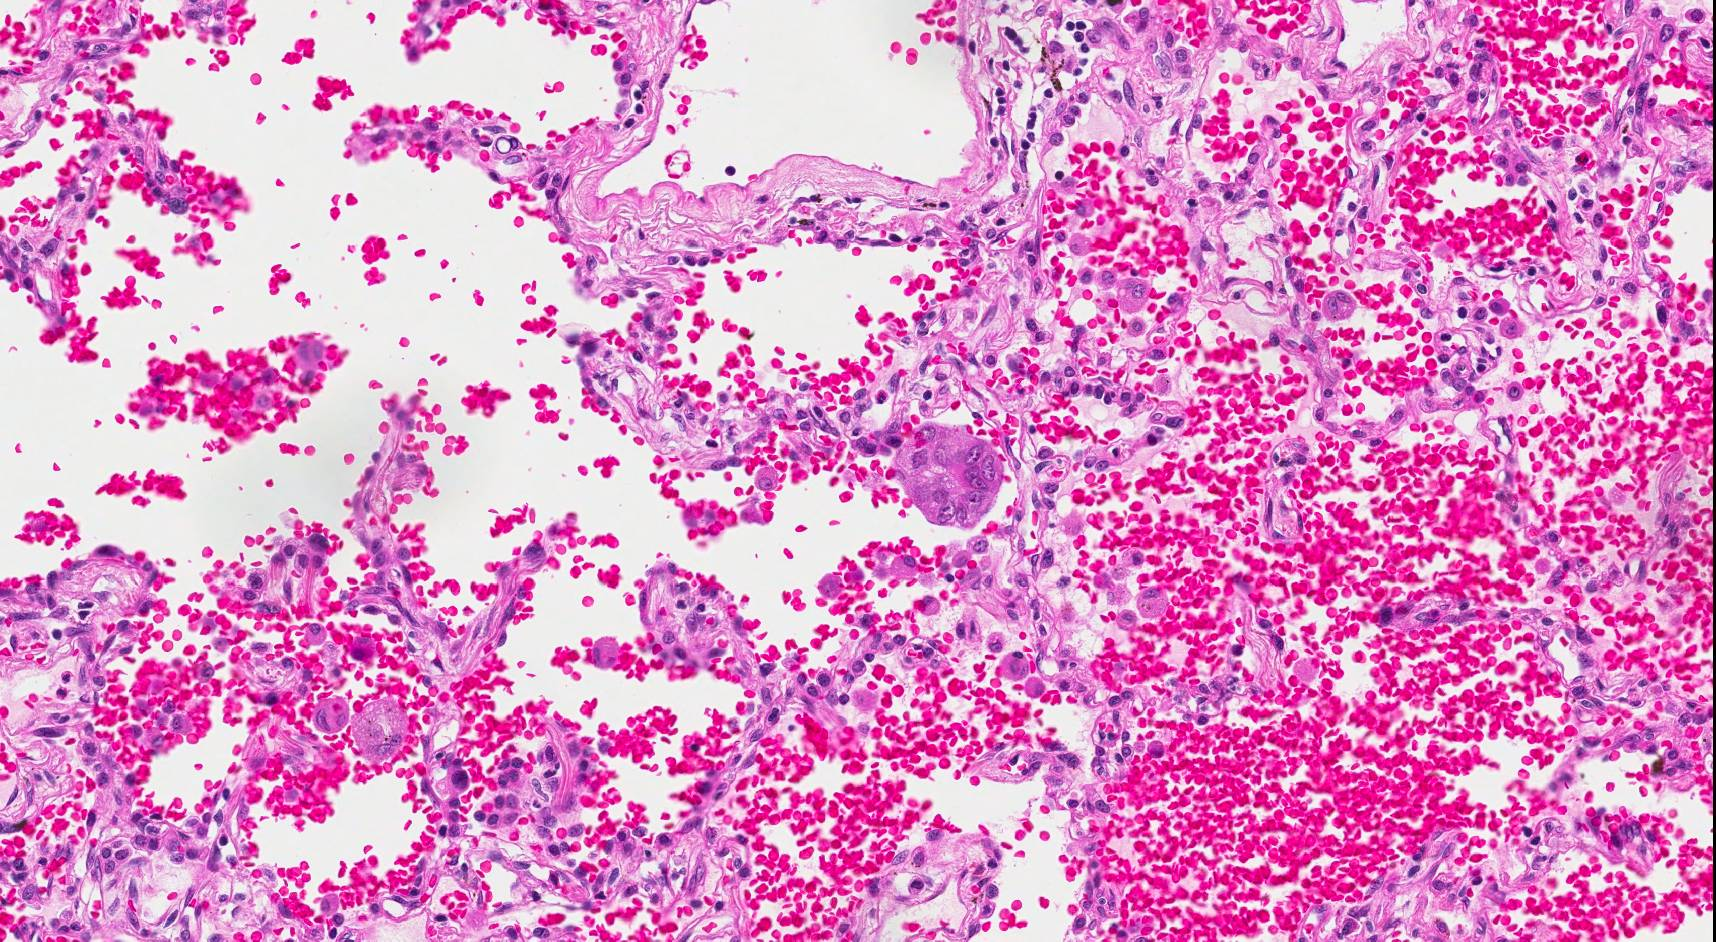stas: (891, 423, 1006, 531)
